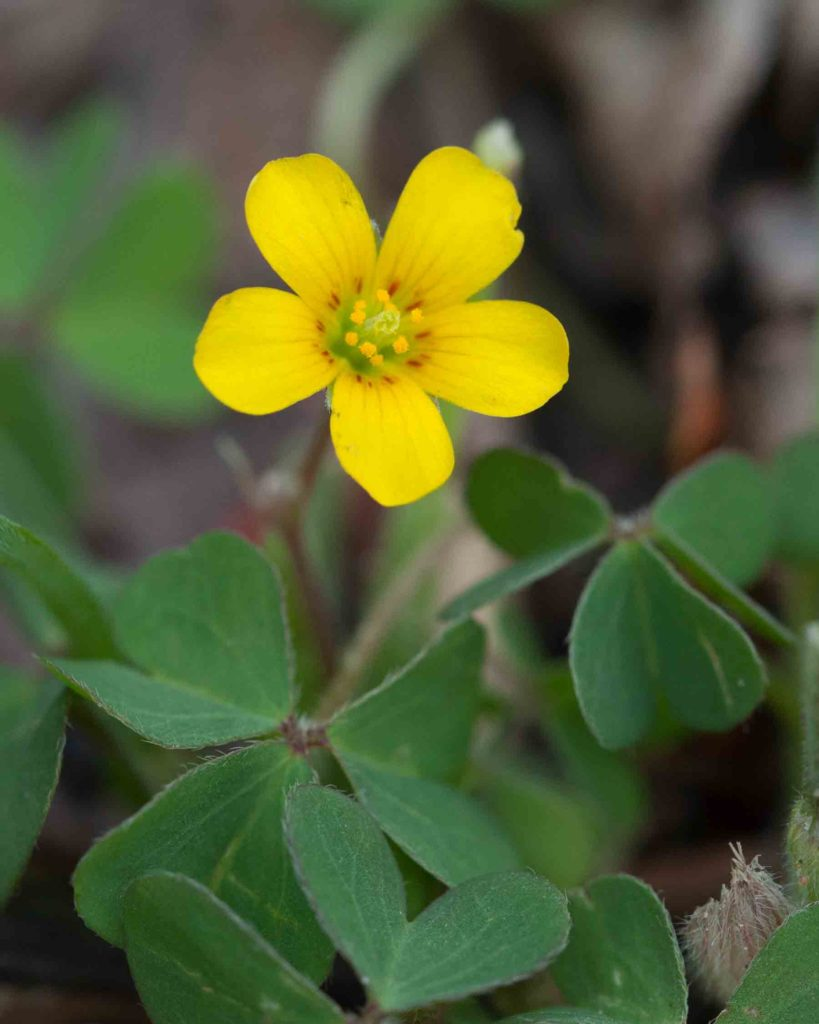clover: (32, 522, 491, 990), (447, 445, 800, 744)
yellow wood sorrrel: (192, 141, 574, 512)
